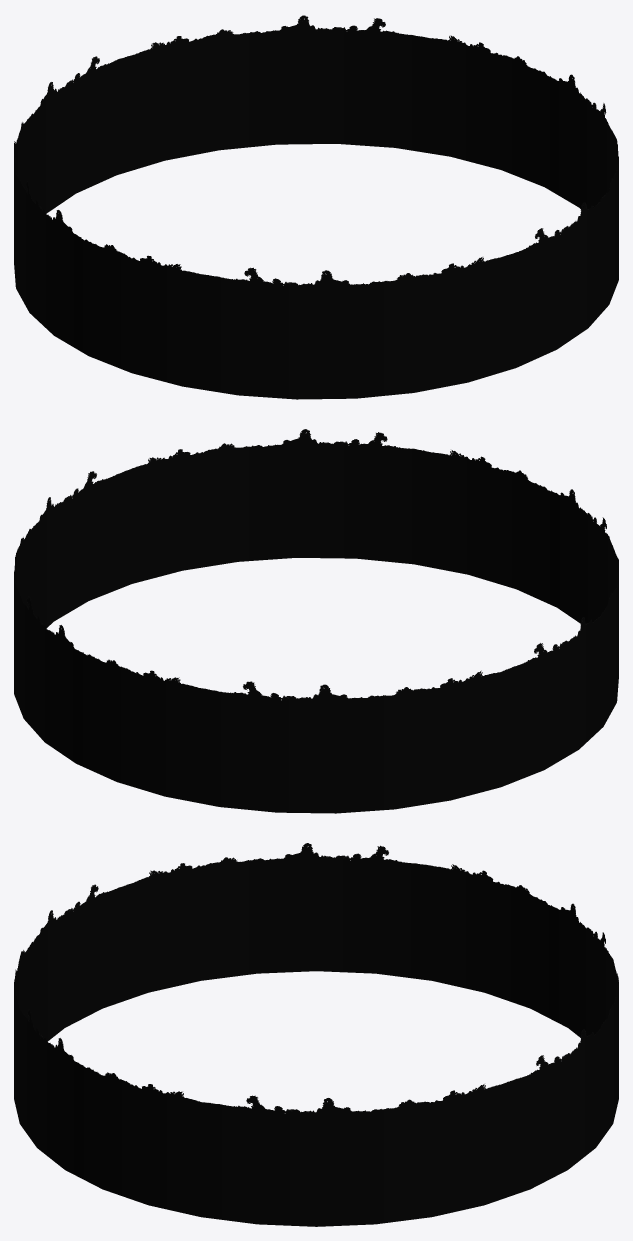
Rendered from Forest.fbx.
3 views of the same model, one above another, from view 1: azimuth 30°, elevation 25°; view 2: azimuth 150°, elevation 25°; view 3: azimuth 270°, elevation 25° (orthographic).
Visible parts, largest first — view 1: Forest; view 2: Forest; view 3: Forest.
Part boxes in pixels (x1=…): Forest: x1=14, y1=15, x2=618, y2=399; Forest: x1=14, y1=429, x2=618, y2=813; Forest: x1=14, y1=843, x2=618, y2=1226.
Size of the model in its own units: 48000 by 11300 by 48000.
